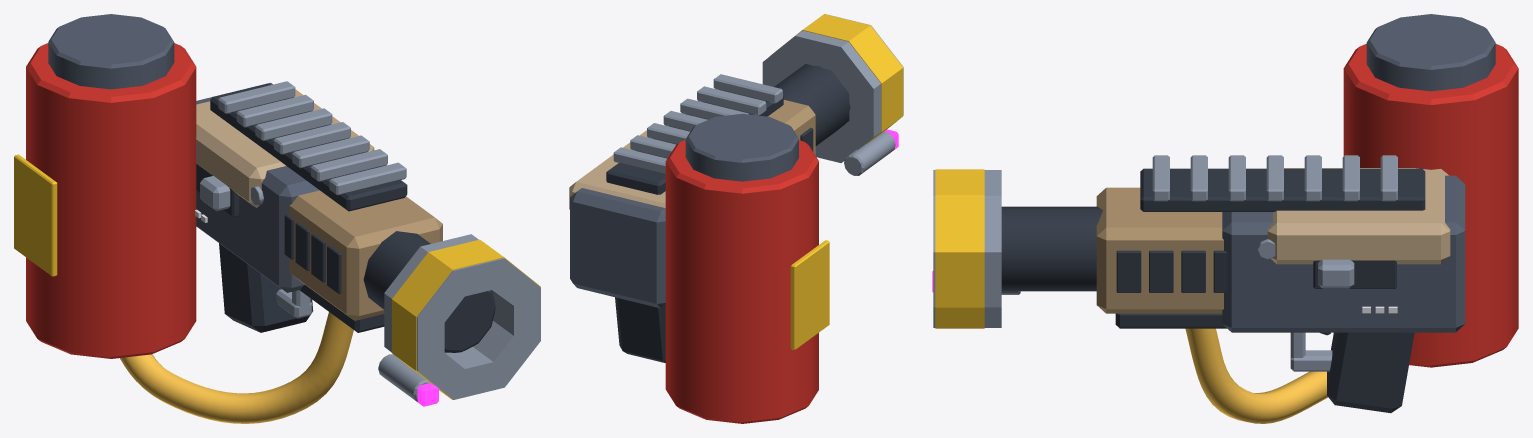
File: Military_FL_v002.fbx
3 renders of one model, left to right at view 1: azimuth 30°, elevation 25°; view 2: azimuth 150°, elevation 25°; view 3: azimuth 270°, elevation 25°, orthographic. The views are drawn at different scales.
Parts seen in each view (by area): view 1: Military_FL__RECEIVER_MESH; view 2: Military_FL__RECEIVER_MESH; view 3: Military_FL__RECEIVER_MESH.
Boxes of the visible parts, x1=… form: Military_FL__RECEIVER_MESH: x1=14, y1=14, x2=540, y2=423; Military_FL__RECEIVER_MESH: x1=569, y1=14, x2=903, y2=423; Military_FL__RECEIVER_MESH: x1=932, y1=14, x2=1518, y2=423.
Size of the model in its own units: 0.8715 by 1.02 by 1.54.
